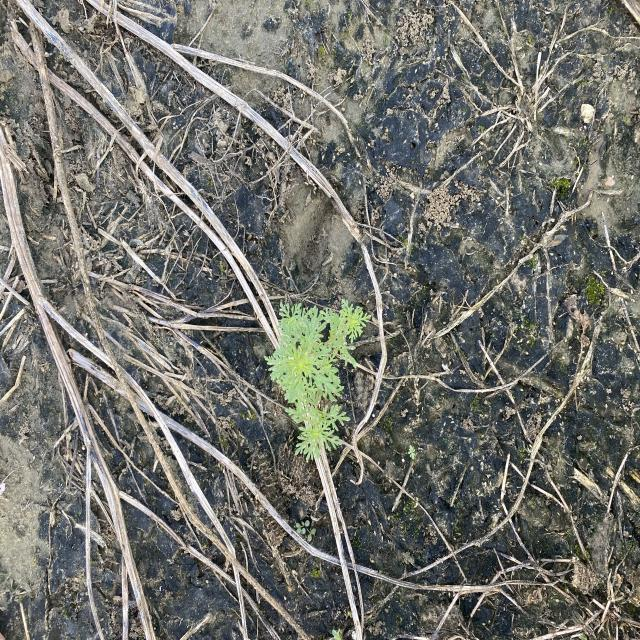Ragweed: (263, 299, 374, 464)
